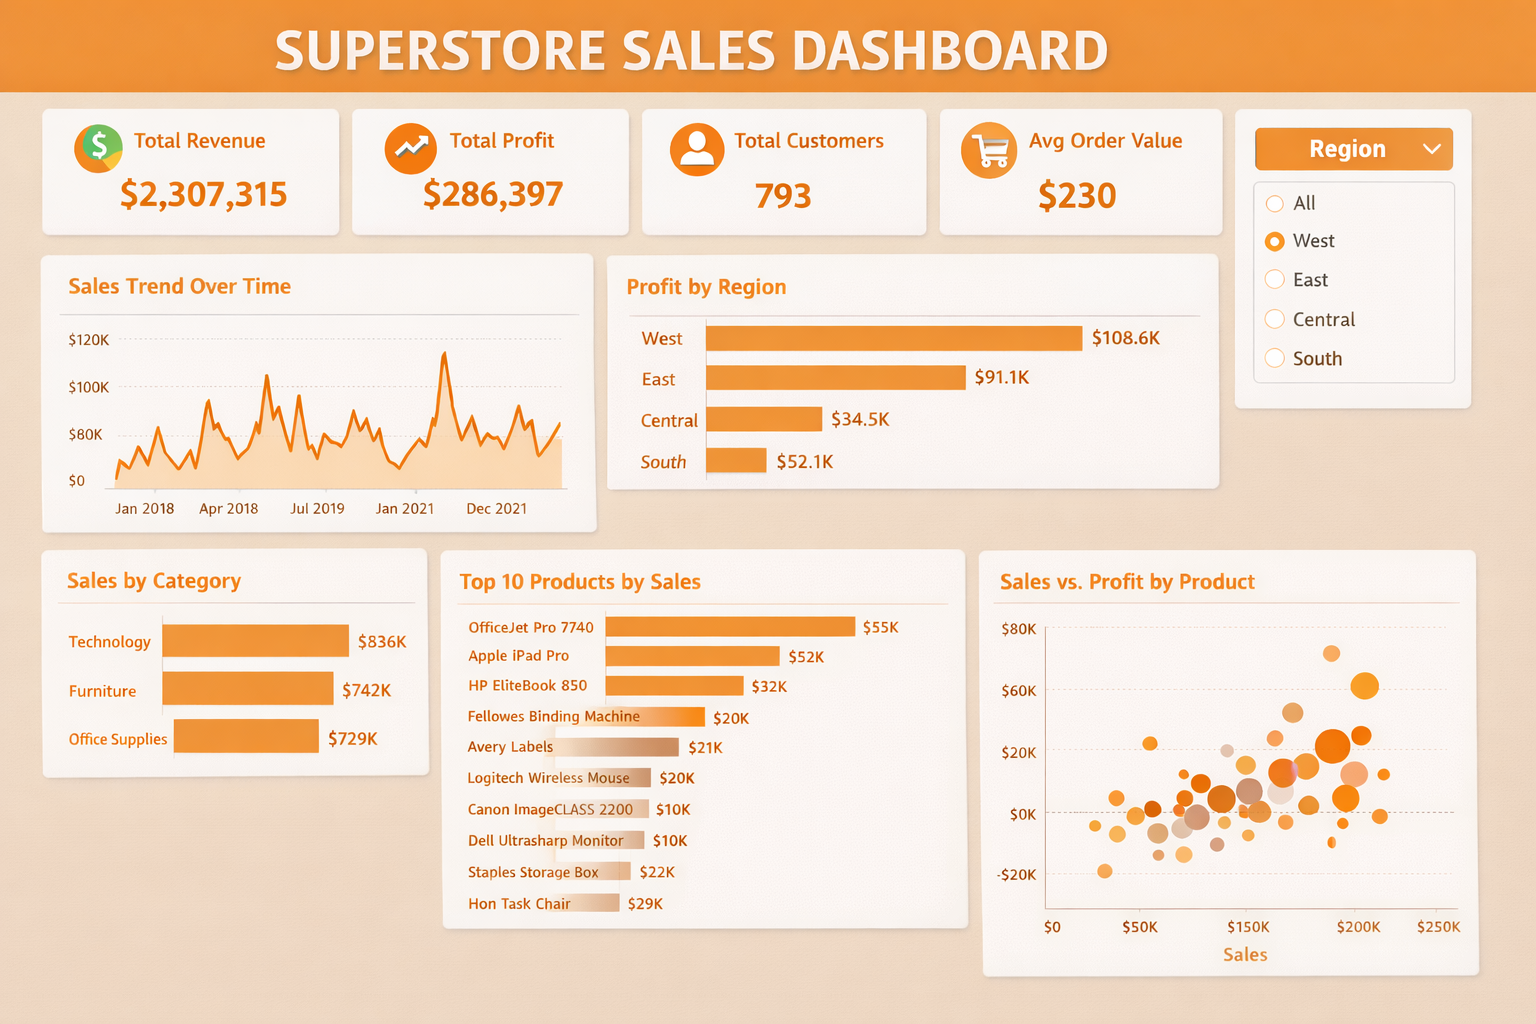

What the dashboard file says about the page in this screenshot:
{"tool":"powerbi","page":{"name":"Page 1","canvas":[1900,1400],"ordinal":0},"visuals":[{"type":"card","title":"Total Revenue","fields":{"Values":["Measure Metrics.Total Revenue"]},"box":[0,87.5,402.5,122.5],"z":0},{"type":"card","title":"Total Profit","fields":{"Values":["Measure Metrics.Total Profit"]},"box":[427.5,87.5,430,122.5],"z":1000},{"type":"card","title":"Total Customers","fields":{"Values":["Measure Metrics.Total Customers"]},"box":[950,87.5,410,122.5],"z":2000},{"type":"card","title":"Total Orders","fields":{"Values":["Measure Metrics.Total Orders"]},"box":[1442.5,87.5,450,122.5],"z":3000},{"type":"lineChart","title":"Sales Trend","fields":{"Category":["cleaned_superstore.Order Date.Variation.Date Hierarchy.Year","cleaned_superstore.Order Date.Variation.Date Hierarchy.Month"],"Y":["Sum(cleaned_superstore.Sales)"]},"box":[0,252.5,597.5,342.5],"z":4000},{"type":"clusteredBarChart","title":"Sales by Category","fields":{"Category":["cleaned_superstore.Category"],"Y":["Sum(cleaned_superstore.Sales)"]},"box":[0,657.1,508.6,288.6],"z":5000},{"type":"clusteredBarChart","title":" Profit by Region","fields":{"Category":["cleaned_superstore.Region"],"Y":["Sum(cleaned_superstore.Profit)"]},"box":[622.9,251.4,780,311.4],"z":6000},{"type":"clusteredBarChart","title":"Top 10 Products by Revenue","fields":{"Category":["cleaned_superstore.Product Name"],"Y":["Sum(cleaned_superstore.Sales)"]},"box":[508.6,562.9,637.1,837.1],"z":7000},{"type":"scatterChart","title":"Sales Vs Profit by Product","fields":{"X":["Sum(cleaned_superstore.Sales)"],"Y":["Sum(cleaned_superstore.Profit)"],"Size":["Sum(cleaned_superstore.Quantity)"],"Series":["cleaned_superstore.Category"]},"box":[1165.7,794.3,734.3,605.7],"z":8000},{"type":"slicer","title":"Region","fields":{"Values":["cleaned_superstore.Region"]},"box":[1442.9,342.9,457.1,357.1],"z":9000},{"type":"textbox","title":"SUPERSTORE SALES DASHBOARD","box":[22.5,0,1877.5,87.5],"z":9001}]}

Visuals, with their boxes on the page's 1900x1400 design canvas (x1, y1, x2, y2). These are canvas units, not pixel positions in the 1536x1024 screenshot, which may show the page scaled, cropped or inside an application window:
"Total Revenue" card: detection(0, 88, 402, 210)
"Total Profit" card: detection(428, 88, 858, 210)
"Total Customers" card: detection(950, 88, 1360, 210)
"Total Orders" card: detection(1442, 88, 1892, 210)
"Sales Trend" lineChart: detection(0, 252, 598, 595)
"Sales by Category" clusteredBarChart: detection(0, 657, 509, 946)
" Profit by Region" clusteredBarChart: detection(623, 251, 1403, 563)
"Top 10 Products by Revenue" clusteredBarChart: detection(509, 563, 1146, 1400)
"Sales Vs Profit by Product" scatterChart: detection(1166, 794, 1900, 1400)
"Region" slicer: detection(1443, 343, 1900, 700)
"SUPERSTORE SALES DASHBOARD" textbox: detection(22, 0, 1900, 88)
